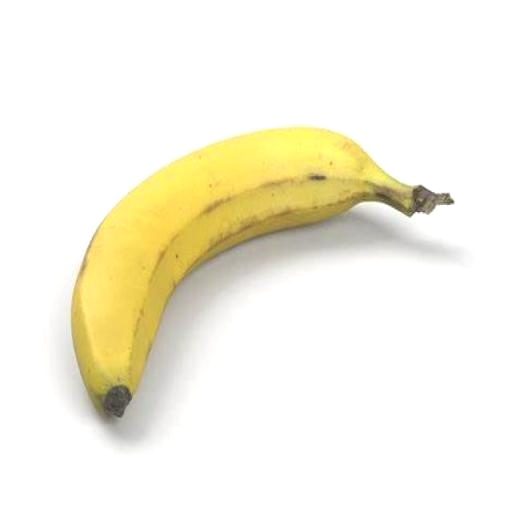fruit: (399, 96, 481, 307)
